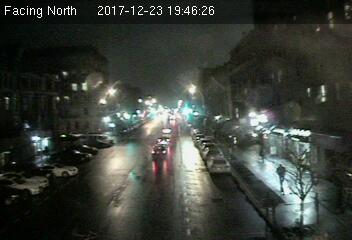car: (207, 156, 231, 174), (150, 145, 168, 158)
